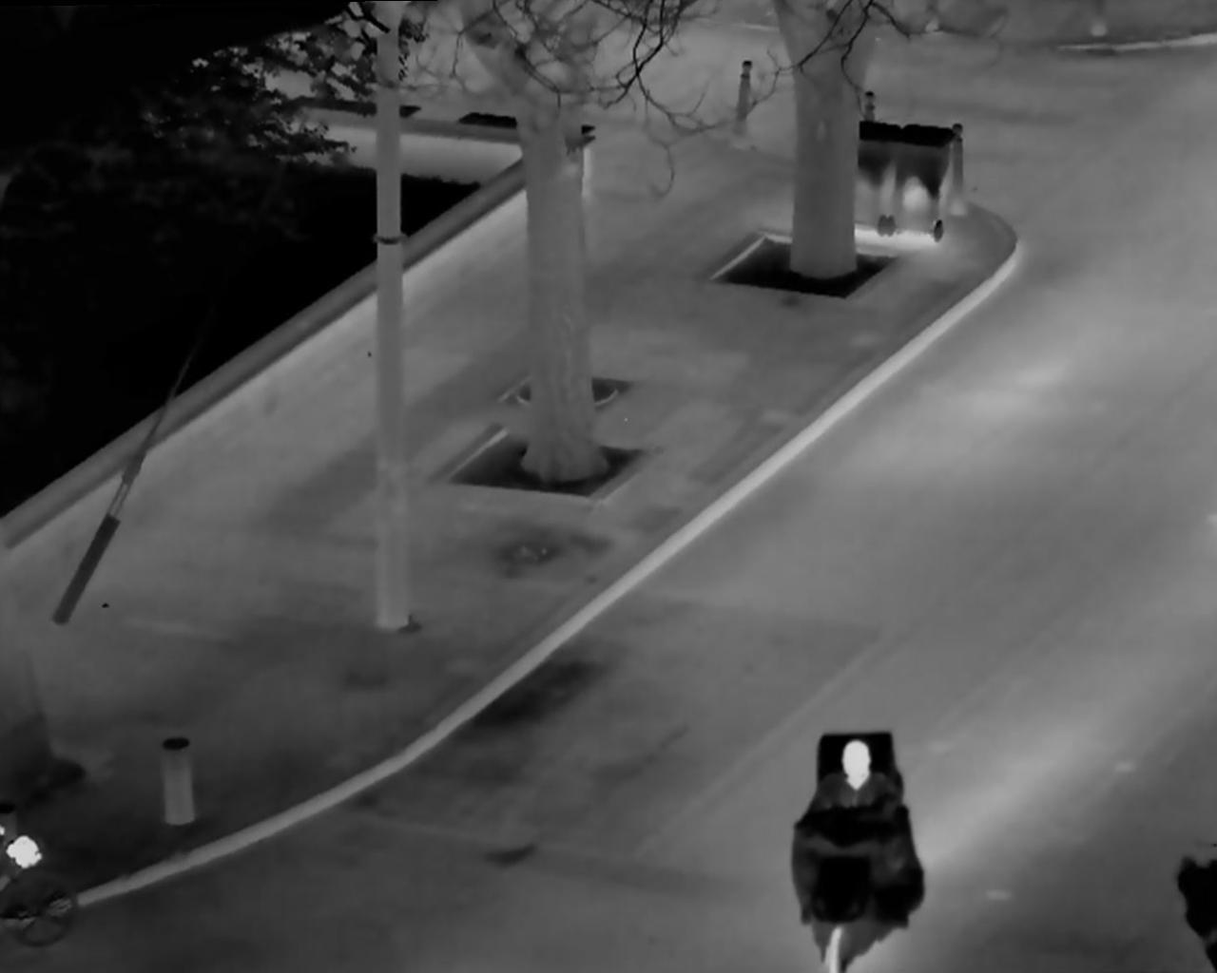person: (791, 724, 914, 921)
